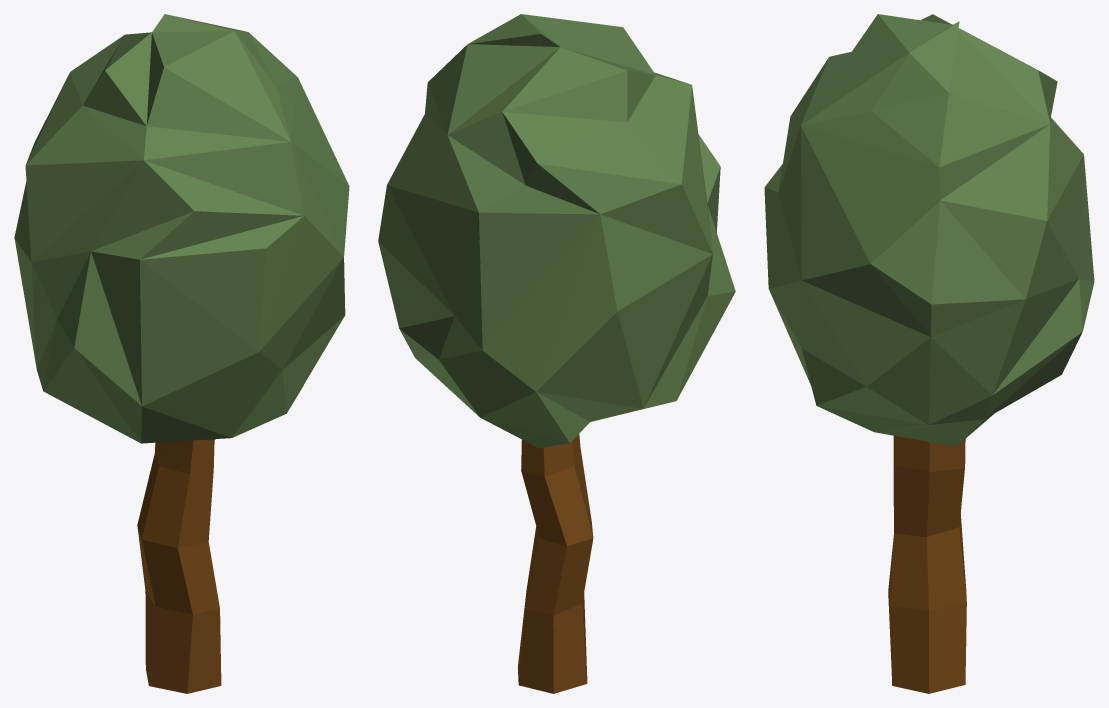
The model's file is Tree.fbx.
The picture shows the model from 3 angles, left to right: view 1: azimuth 30°, elevation 25°; view 2: azimuth 150°, elevation 25°; view 3: azimuth 270°, elevation 25°; orthographic projection.
Visible parts, largest first — view 1: pCube1, pCylinder1; view 2: pCube1, pCylinder1; view 3: pCube1, pCylinder1.
Part boxes in pixels (x1,y1,x2,y2): pCube1: (14,14,349,443); pCylinder1: (137,439,221,693); pCube1: (378,14,735,448); pCylinder1: (517,434,593,693); pCube1: (764,14,1094,446); pCylinder1: (888,435,966,693).
Size of the model in its own units: 6.06 by 12.12 by 5.54.
